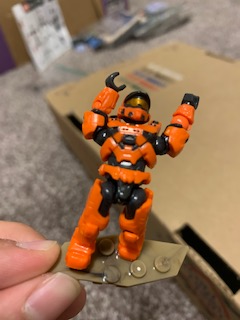spartan: (64, 71, 202, 272)
up: (77, 70, 200, 171)
